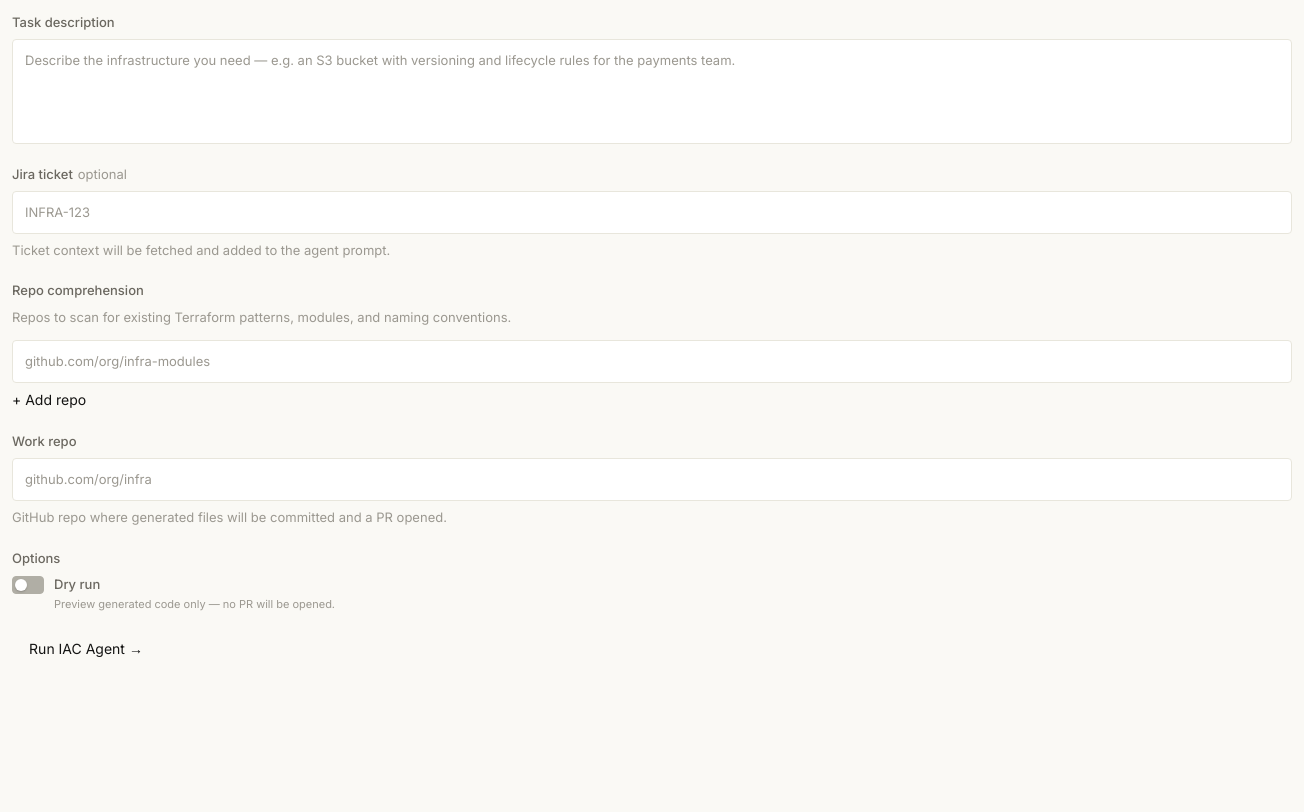
Test case: TaskForm › addRepo is a no-op past 2 rows
Expected: the number of fields with placeholder "github.com/org/infra-modules" is 1, top-left (12, 340), bottom-right (1292, 383)
Click the button "+ Add repo".
click(49, 400)  # box top-left (12, 389), bottom-right (86, 411)
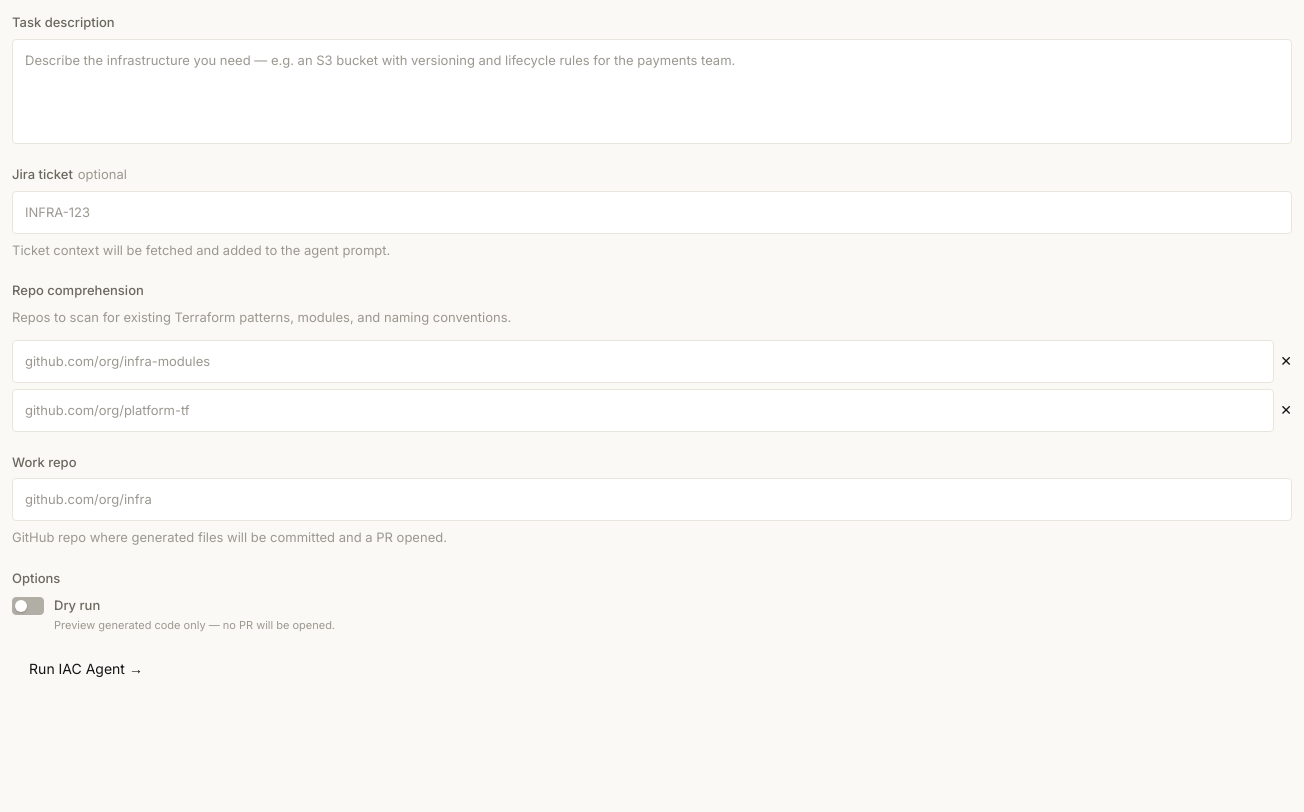
Expected: the button "+ Add repo" is gone
Expected: the number of fields with placeholder "github.com/org/infra-modules" is 2, top-left (12, 340), bottom-right (1274, 383); top-left (12, 389), bottom-right (1274, 432)
